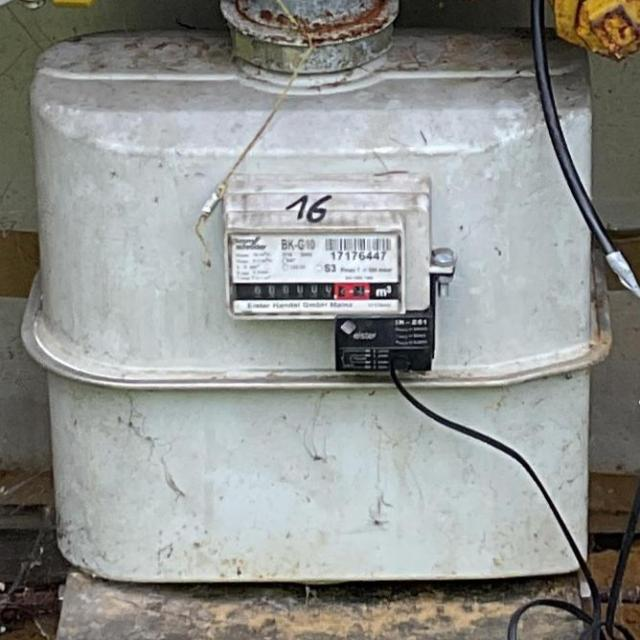gaz_meter: (225, 229, 406, 321)
indication: (247, 281, 371, 303)
